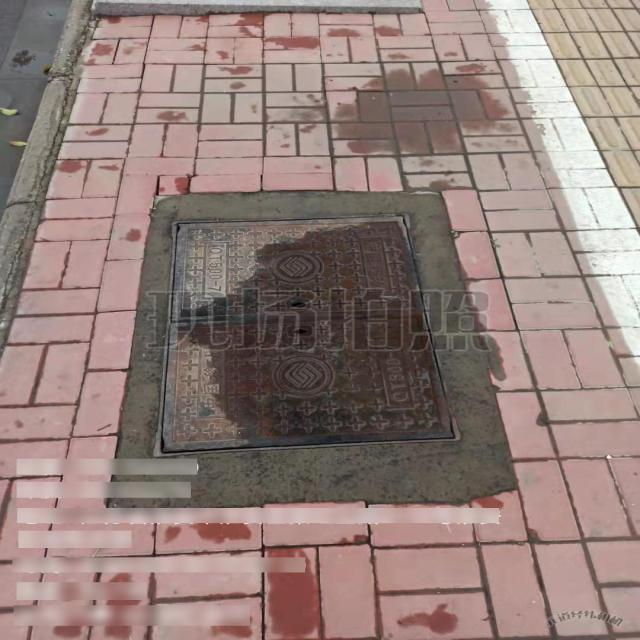Good: (153, 211, 460, 454)
